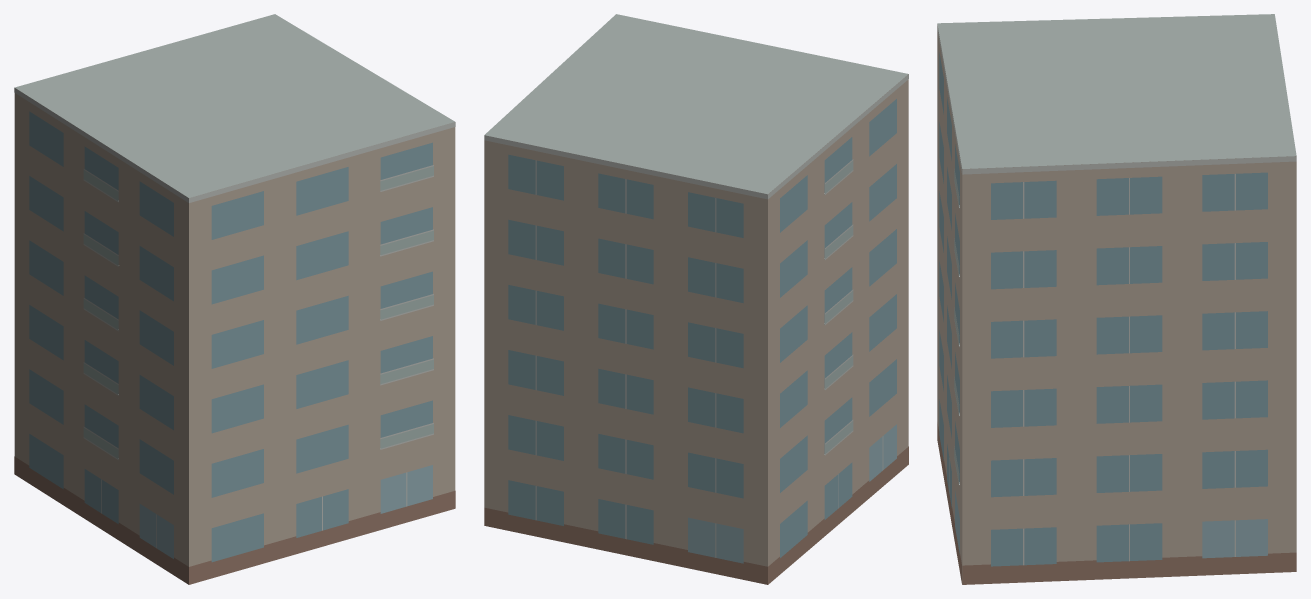
Rendered from survey-upis-32739909.glb.
3 views of the same model, side by side, from view 1: azimuth 30°, elevation 25°; view 2: azimuth 150°, elevation 25°; view 3: azimuth 270°, elevation 25° (orthographic). The views are drawn at different scales.
Visible parts, largest first — view 1: survey-upis-32739909.tmp; view 2: survey-upis-32739909.tmp; view 3: survey-upis-32739909.tmp.
Boxes of the visible parts, x1,y1,x2,y2 form: survey-upis-32739909.tmp: [14, 14, 455, 584]; survey-upis-32739909.tmp: [484, 14, 908, 584]; survey-upis-32739909.tmp: [937, 14, 1296, 584].
Bounding box in the file's own units: 14.89 × 18.6 × 14.58.
